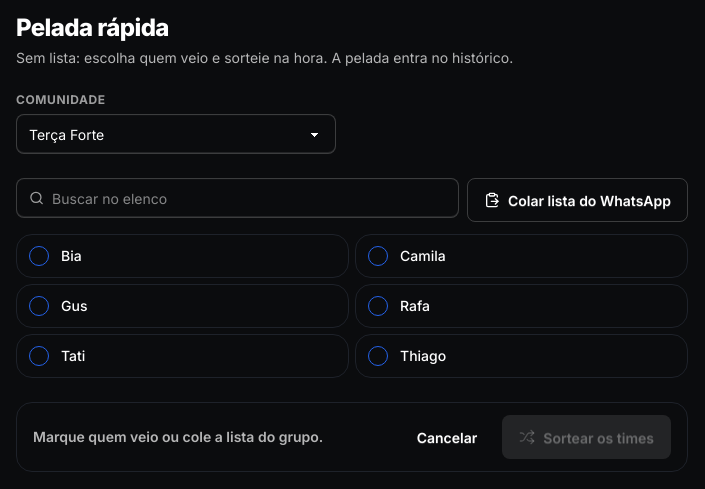
Test: pelada rápida › a busca filtra o elenco
The width and height of the screenshot is (705, 489).
In the search field labelled "Buscar no elenco": (249, 198) x1=52 y1=179 x2=446 y2=217, type "cam"
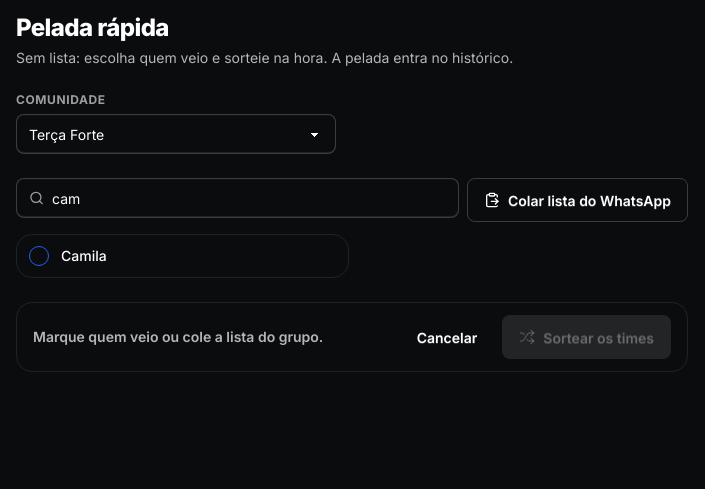
Expected: the checkbox labelled "Camila" is shown, x1=29 y1=246 x2=49 y2=266
Expected: the text "Rafa" is gone
